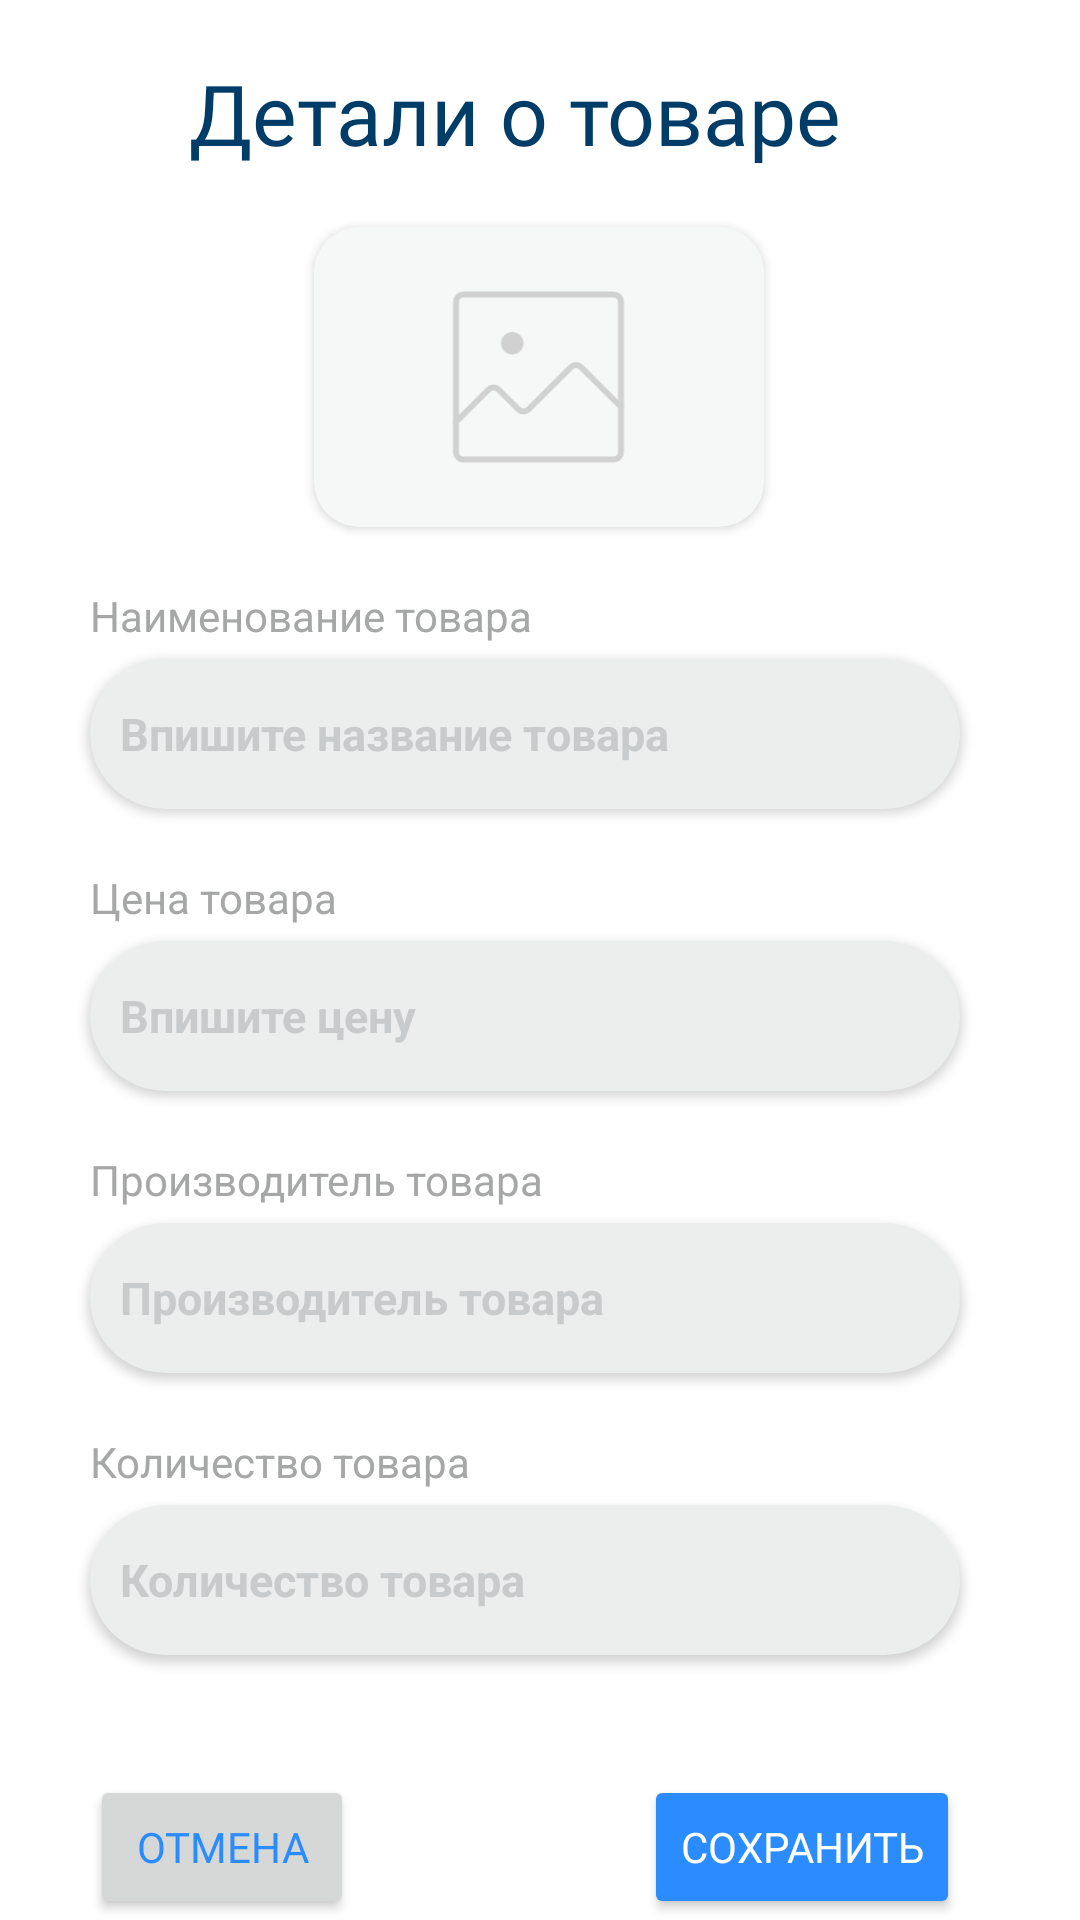

Icon click points for this 1080px x 1920px phone screenshot, format [x,y]:
imagesquare: [538,377]
